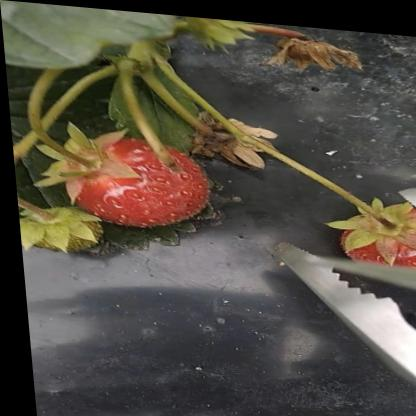ripe: (58, 131, 217, 231), (336, 196, 416, 260)
